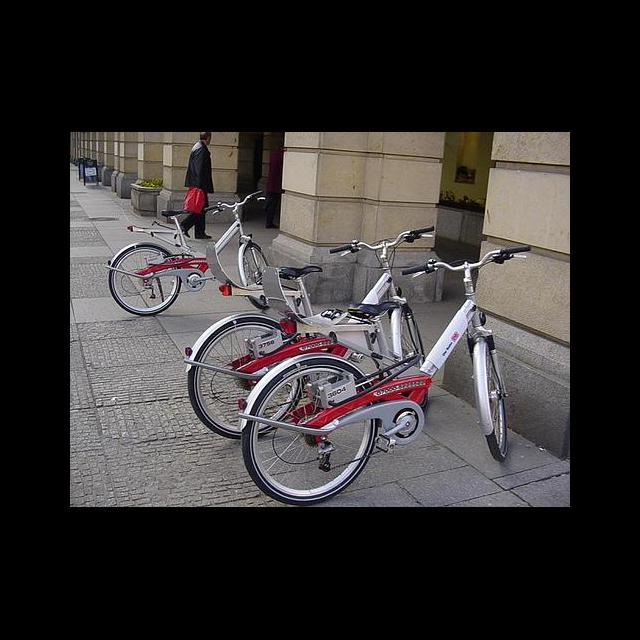NO-Hardhat: (200, 132, 212, 139)
NO-Mask: (203, 139, 212, 145)
NO-Safety Vest: (188, 144, 213, 188)
Person: (178, 133, 216, 240)
